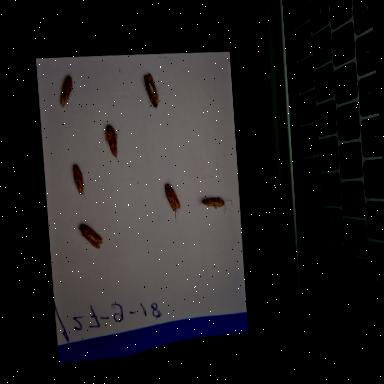pbw: (77, 220, 103, 250), (142, 72, 162, 110), (163, 182, 181, 224), (198, 196, 235, 216), (58, 76, 76, 109), (104, 124, 119, 160), (72, 162, 85, 200)
